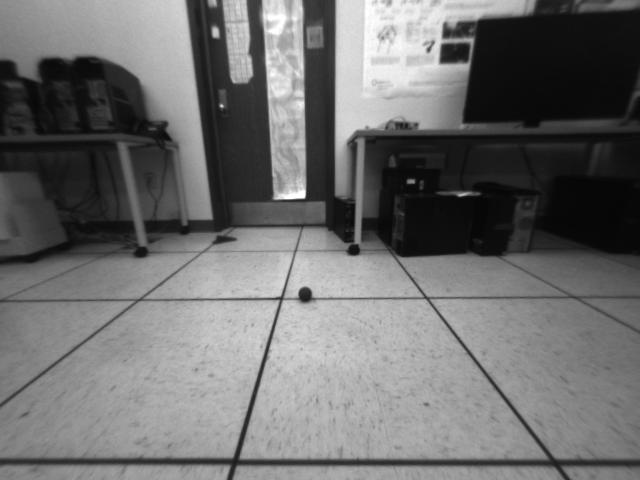dogtoy: (295, 281, 320, 305)
